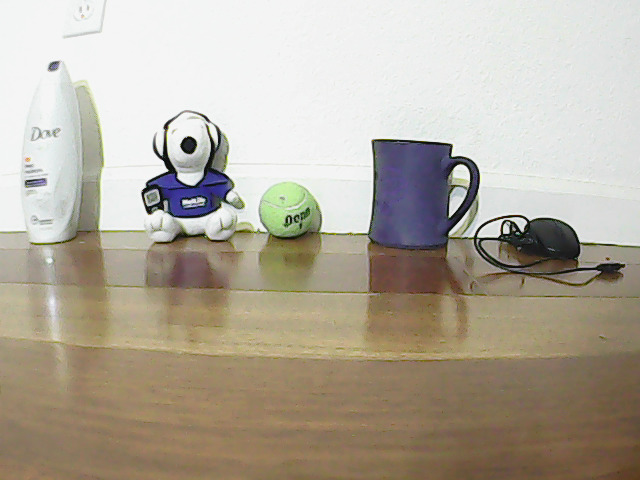ball: (253, 181, 320, 244)
mouse: (518, 208, 593, 262)
mug: (370, 129, 478, 252)
snoopy: (140, 100, 244, 245)
soap: (35, 46, 85, 248)
